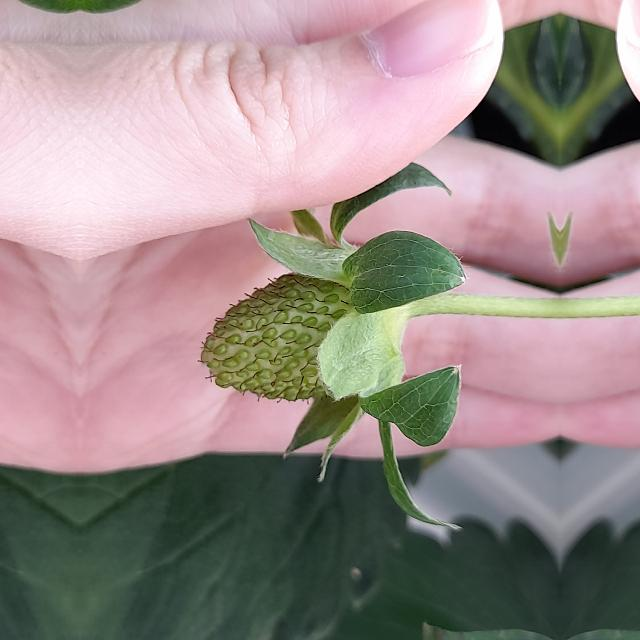Health_25: (198, 272, 364, 404)
